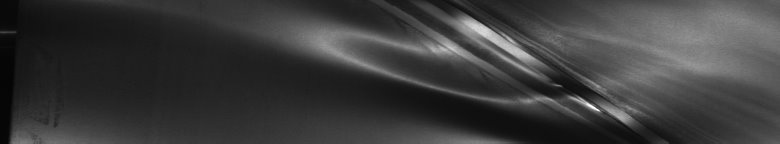ke: (328, 4, 650, 136)
